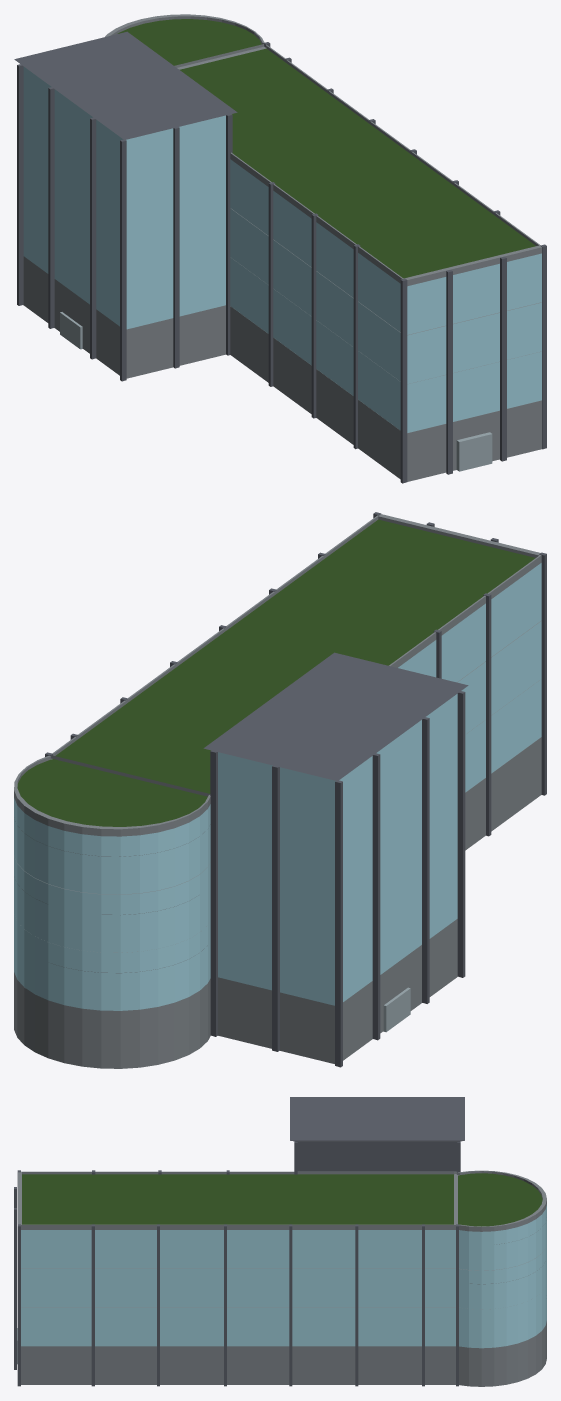
Rendered from a3building_marco.fbx.
3 renders of one model, top to bottom at view 1: azimuth 30°, elevation 25°; view 2: azimuth 150°, elevation 25°; view 3: azimuth 270°, elevation 25°, orthographic. The views are drawn at different scales.
Visible parts, largest first — view 1: Cube.001, Cube.004, Cube.003, Cube.002, Cube, Cube.019, Cube.006, Cube.020, Cube.021, Cube.022, Cube.010, Cube.026 (+8 smaller); view 2: Cube.001, Cube.004, Cube.003, Cube.002, Cube, Cube.019, Cube.021, Cube.022, Cube.020, Cube.023, Cube.024, Cube.010 (+2 smaller); view 3: Cube.004, Cube.003, Cube.002, Cube, Cube.001, Cube.011, Cube.012, Cube.015, Cube.016, Cube.013, Cube.014, Cube.017 (+2 smaller).
Part boxes in pixels (x1,y1,x2,y2): Cube.001: (14, 31, 237, 378); Cube.004: (105, 14, 541, 334); Cube.003: (230, 208, 541, 383); Cube.002: (230, 257, 541, 432); Cube: (230, 306, 541, 481); Cube.019: (120, 139, 126, 381); Cube.006: (173, 127, 179, 368); Cube.020: (90, 117, 96, 359); Cube.021: (48, 87, 54, 328); Cube.022: (17, 64, 23, 305); Cube.010: (400, 278, 407, 483); Cube.026: (500, 256, 506, 461); Cube.001: (203, 652, 468, 1063); Cube.004: (14, 514, 541, 894); Cube.003: (14, 620, 541, 952); Cube.002: (14, 679, 541, 1010); Cube: (14, 737, 541, 1068); Cube.019: (457, 691, 465, 977); Cube.021: (372, 753, 380, 1040); Cube.022: (335, 780, 342, 1067); Cube.020: (422, 717, 429, 1003); Cube.023: (210, 750, 217, 1036); Cube.024: (272, 765, 279, 1051); Cube.010: (539, 552, 546, 795); Cube.004: (18, 1170, 546, 1270); Cube.003: (21, 1243, 546, 1309); Cube.002: (21, 1282, 546, 1348); Cube: (21, 1321, 546, 1386); Cube.001: (290, 1097, 464, 1171); Cube.011: (17, 1224, 20, 1386); Cube.012: (91, 1224, 94, 1386); Cube.015: (289, 1224, 292, 1386); Cube.016: (355, 1224, 358, 1386); Cube.013: (157, 1224, 159, 1386); Cube.014: (224, 1224, 226, 1386); Cube.017: (422, 1224, 424, 1386).
Size of the model in its own units: 1749 by 1619 by 4050.
